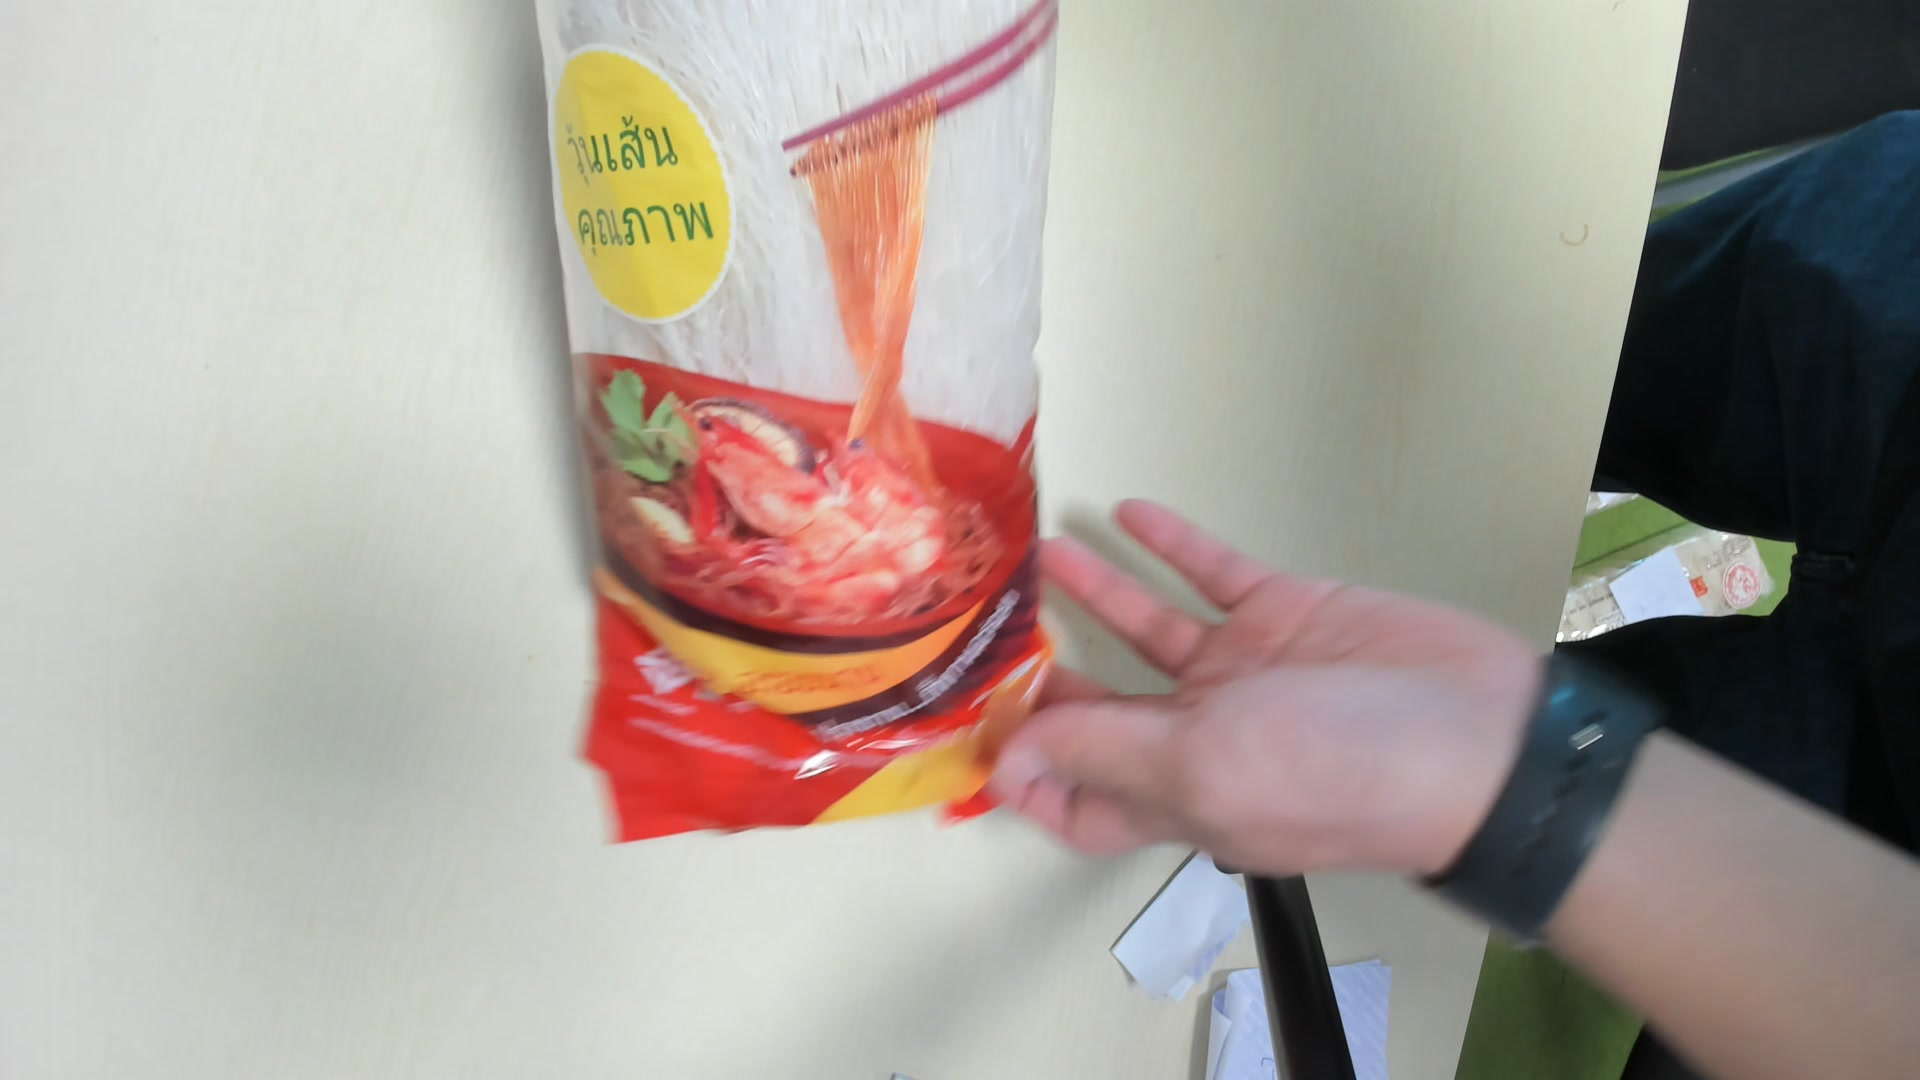BeeHoonVermicelli_500-599g_Halal_NonHealthy: (530, 7, 1073, 843)
